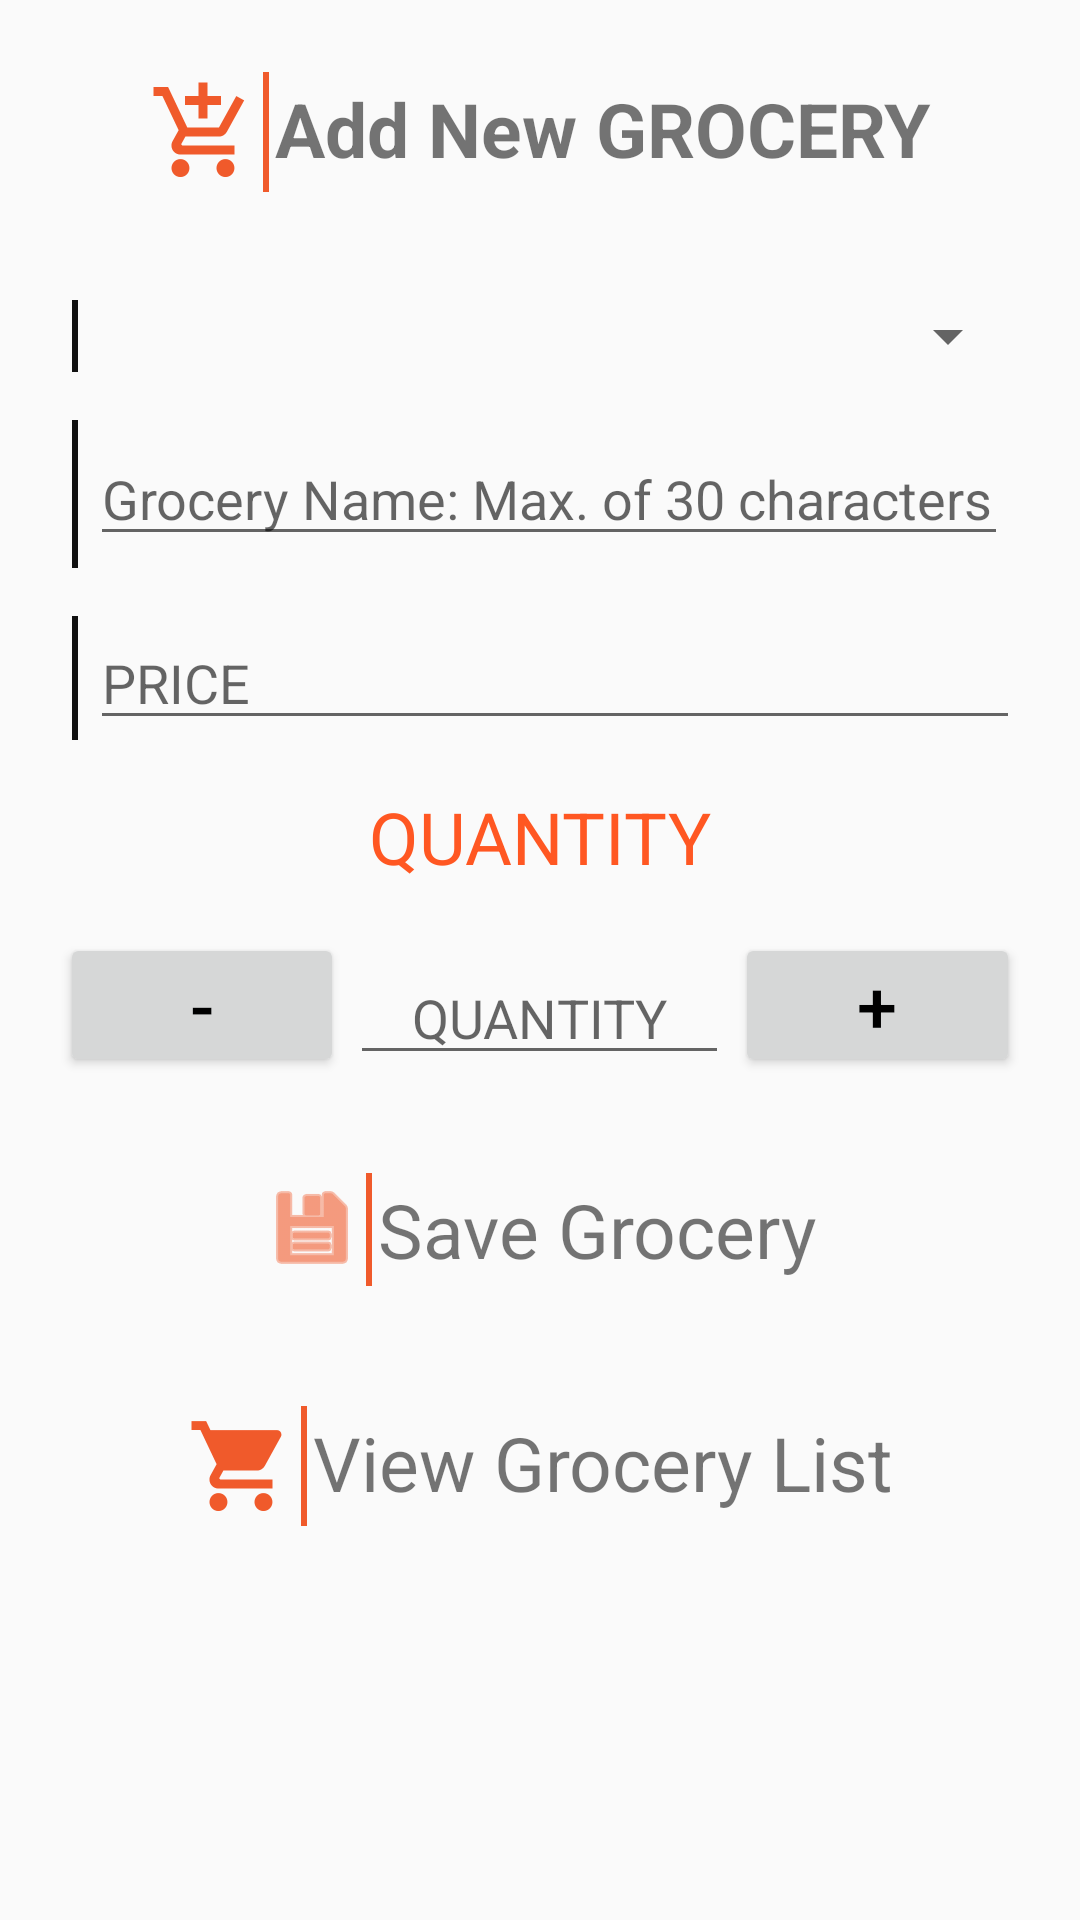

Where icons sit on this 1080w x 1920h app screen, as bbox=[x1, y1, x2, y2]:
add shopping cart: bbox=[153, 82, 244, 177]
